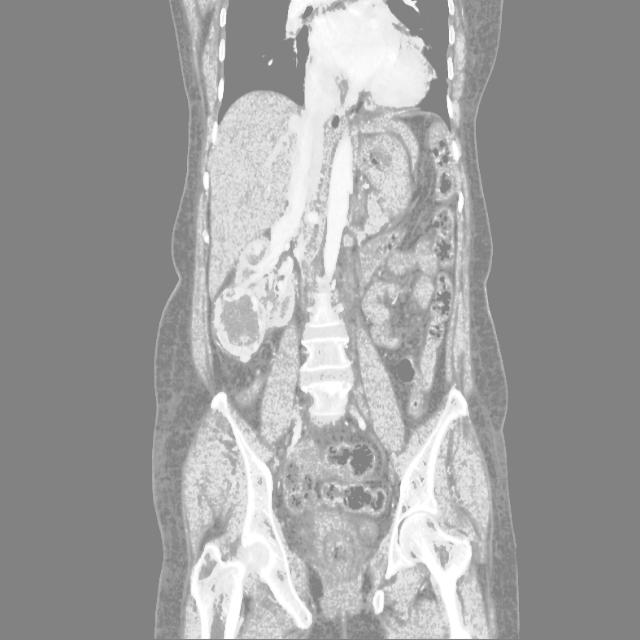TUMOR: (176, 163, 451, 371)
